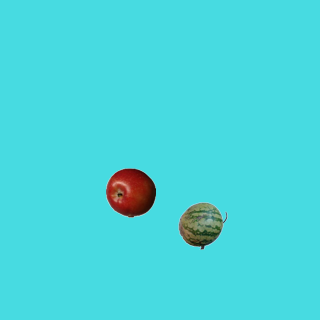Apple Braeburn: (105, 167, 155, 217)
Watermelon: (177, 200, 227, 250)
